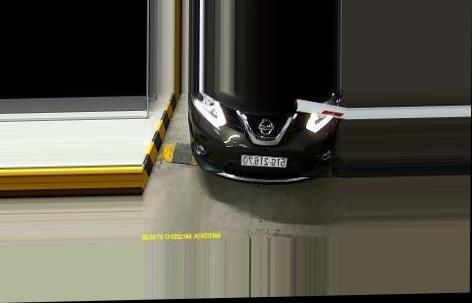License_Plate: (242, 155, 288, 169)
